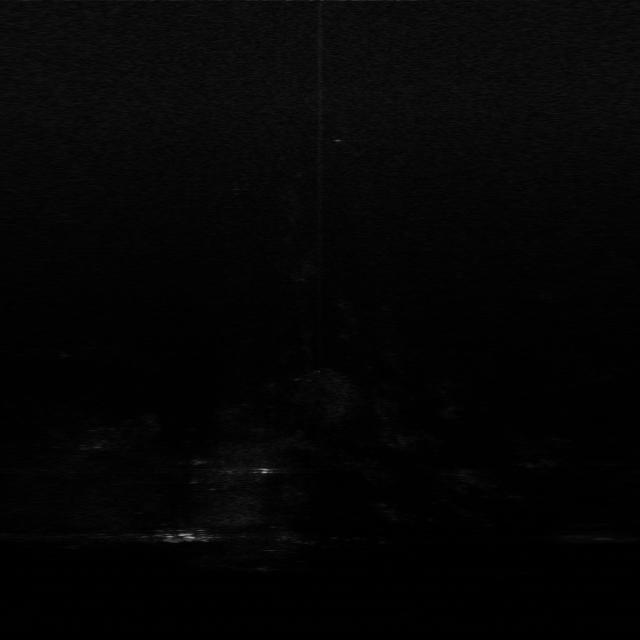rov: (153, 526, 214, 546)
